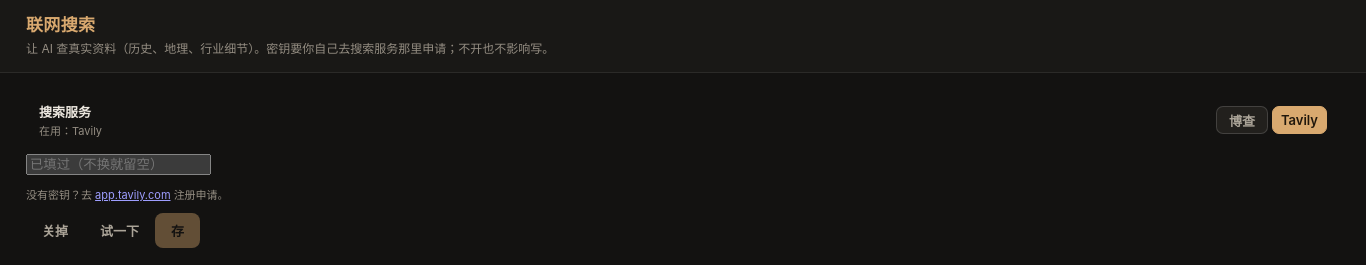
Test: 设置 · 联网搜索 › 已开：密钥框留空表示沿用；换一家得重填；关掉会删
Check: the text "在用：Tavily" is shown, box [39,122,102,138]
Click the button "博查" at (1242, 120), box [1216,106,1268,134]
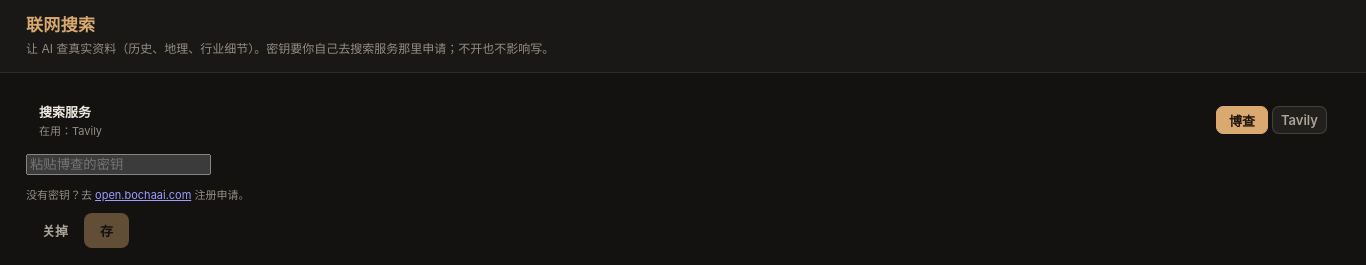
Check: the button "存" is disabled, box [84,213,129,248]
Click the button "关掉" at (55, 230), box [26,213,84,248]
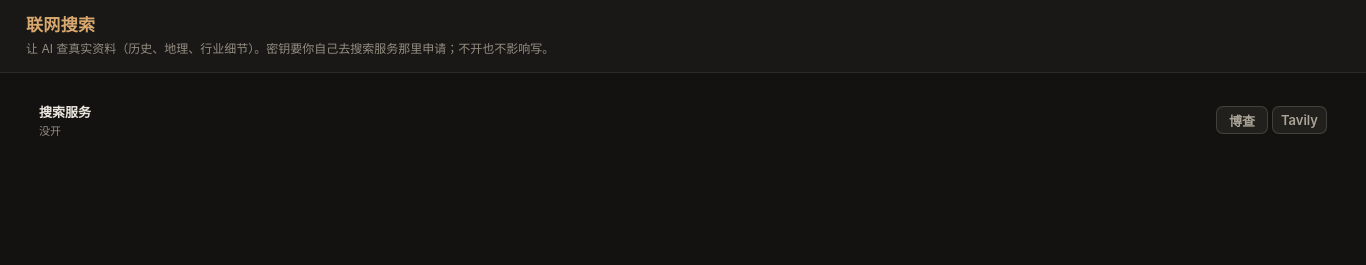
Check: the text "没开" is shown, box [39,124,61,138]
